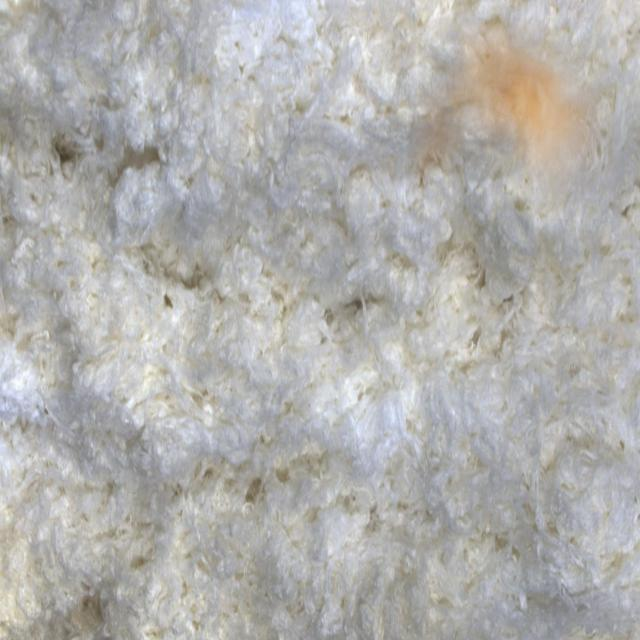dust: (408, 18, 617, 219)
